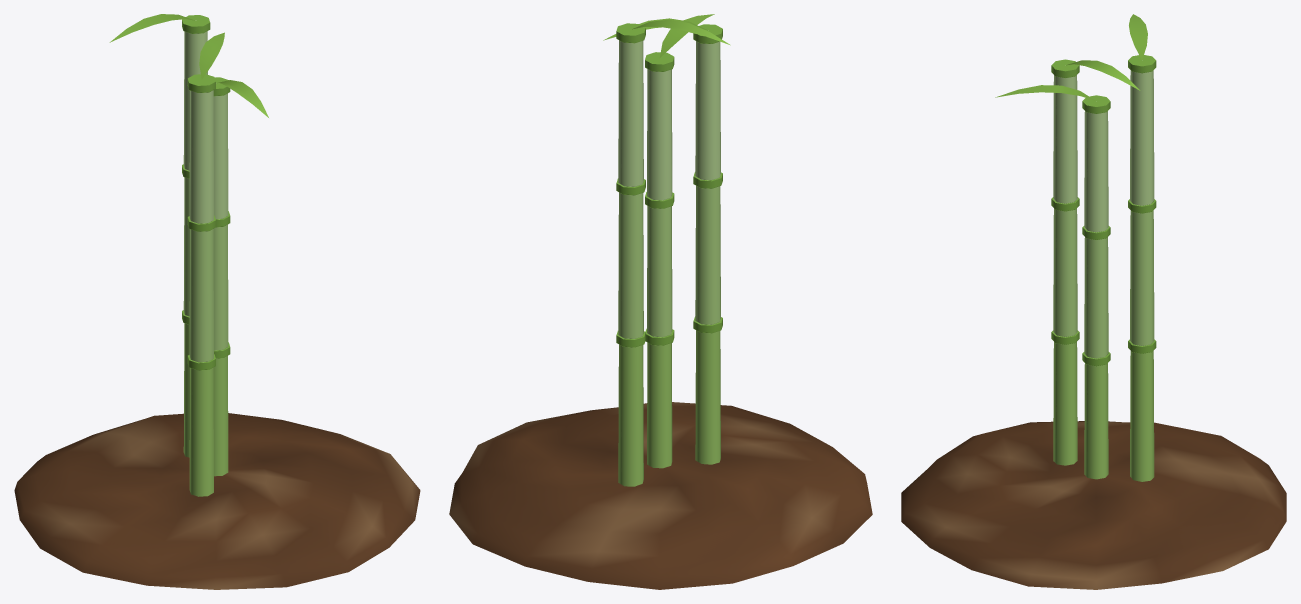
The model's file is plant-bamboo-2.gltf.
3 renders of one model, left to right at view 1: azimuth 30°, elevation 25°; view 2: azimuth 150°, elevation 25°; view 3: azimuth 270°, elevation 25°, orthographic. The views are drawn at different scales.
Bounding box in the file's own units: 1.28 × 1.66 × 1.26.
